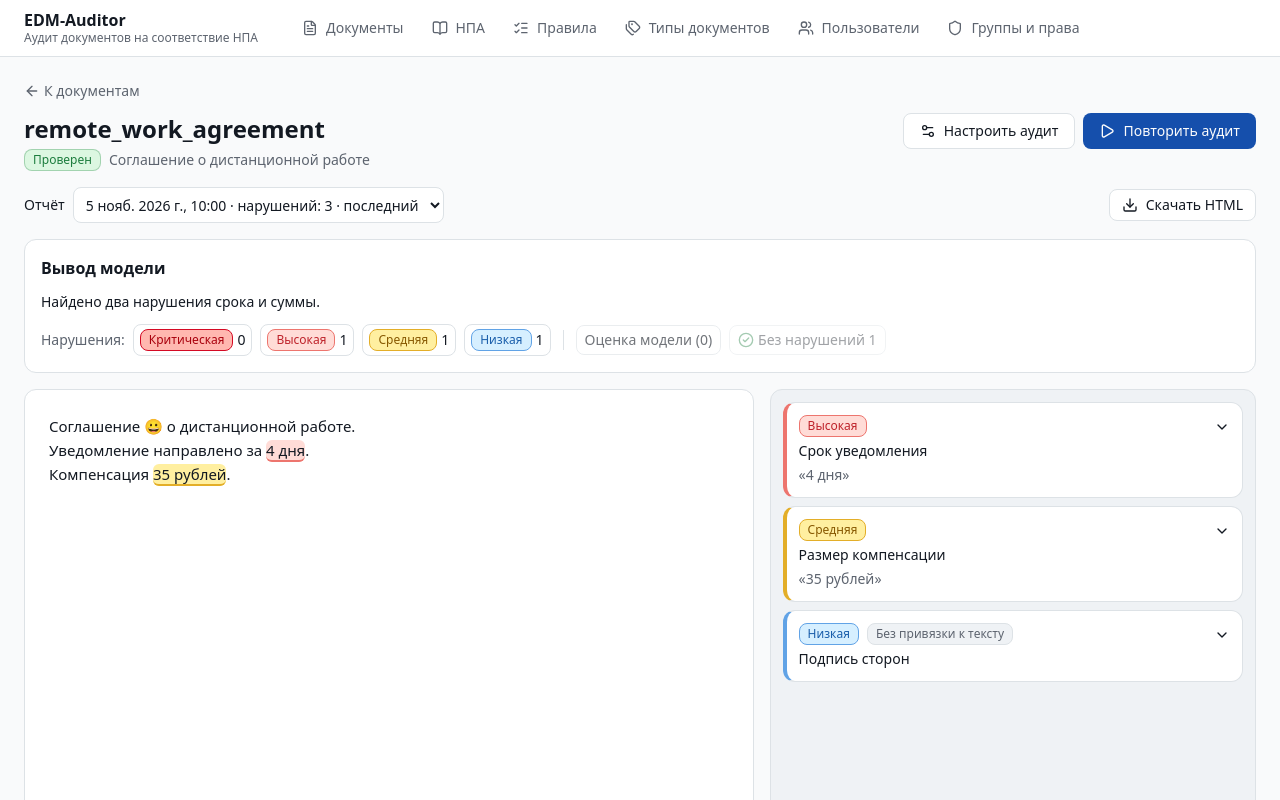
Test: audit screen › filters findings by severity in the list and in the text
Click the button "Средняя 1": click(409, 340) x1=362 y1=324 x2=456 y2=356
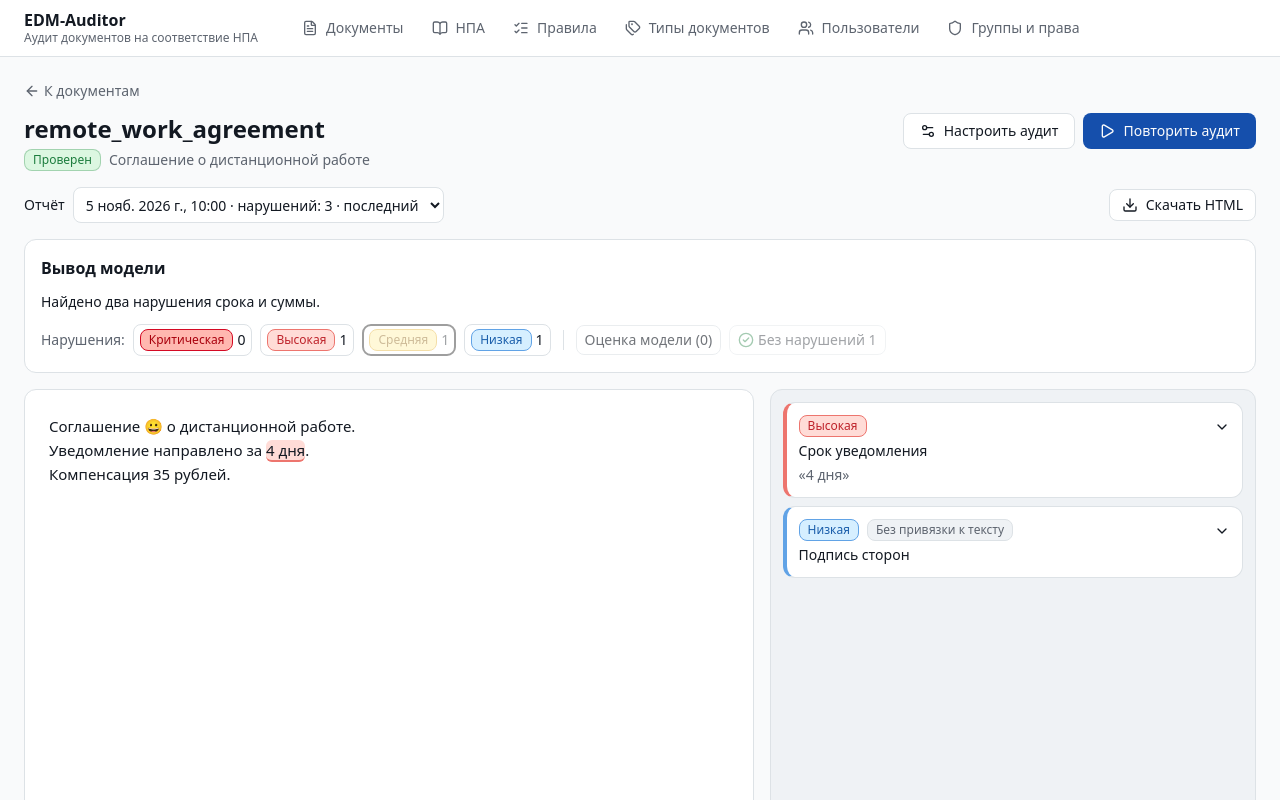
Expected: the button "Размер компенсации" is gone
